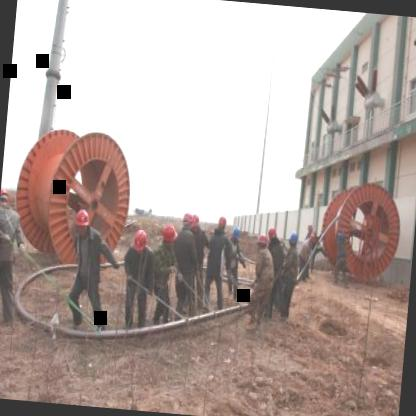helmet: (128, 225, 152, 255), (74, 206, 94, 236), (157, 221, 178, 247), (212, 212, 231, 237), (0, 186, 12, 215), (231, 222, 245, 244), (256, 231, 270, 252), (288, 228, 300, 249), (266, 225, 278, 243)
